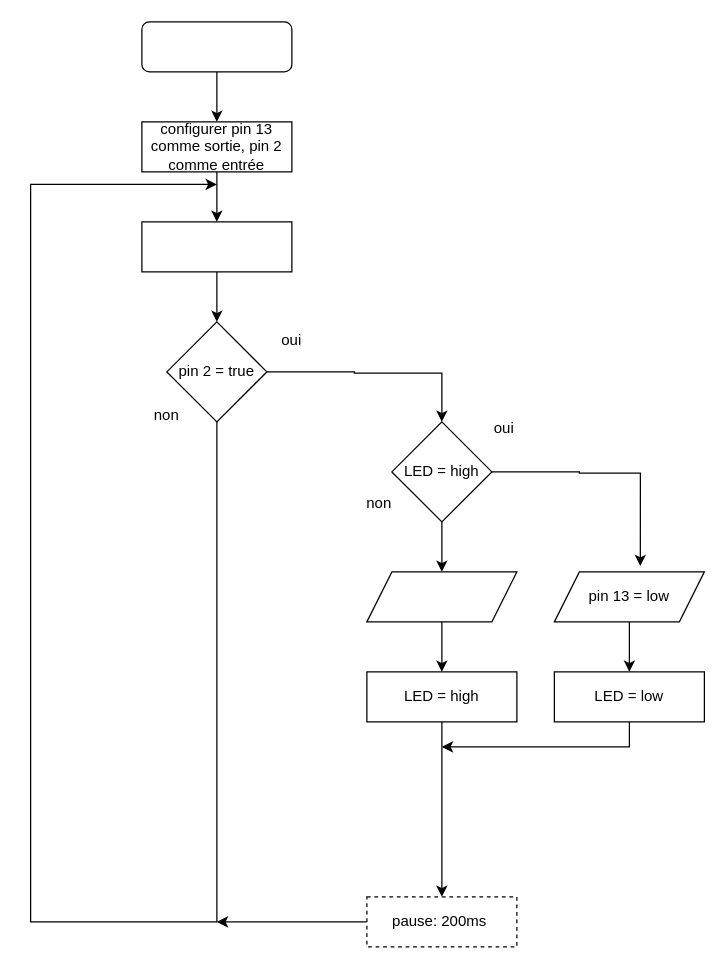
The diagram is 726 pixels wide and 969 high, and some of its shapes have lost their labels. The shapes that lost their labels are listed below. From the top down, each one's centre as x and y in pixels, then its label:
At point (216, 46): "Exercice 2.2".
At point (216, 246): "lire & sauvegarder l'état de la broche 2".
At point (441, 596): "pin 13 = high".
